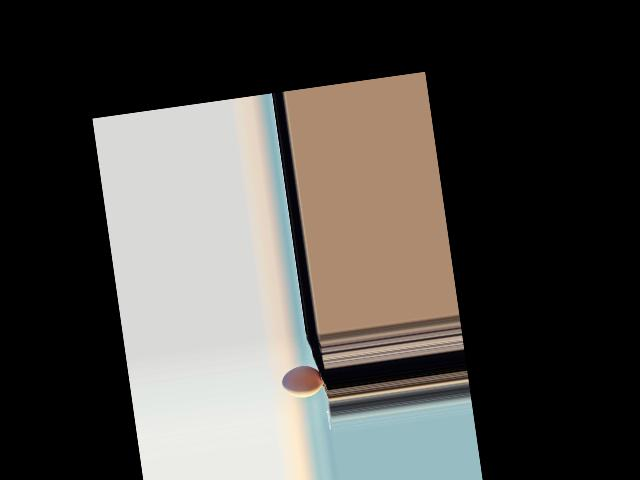egg: (280, 363, 323, 400)
